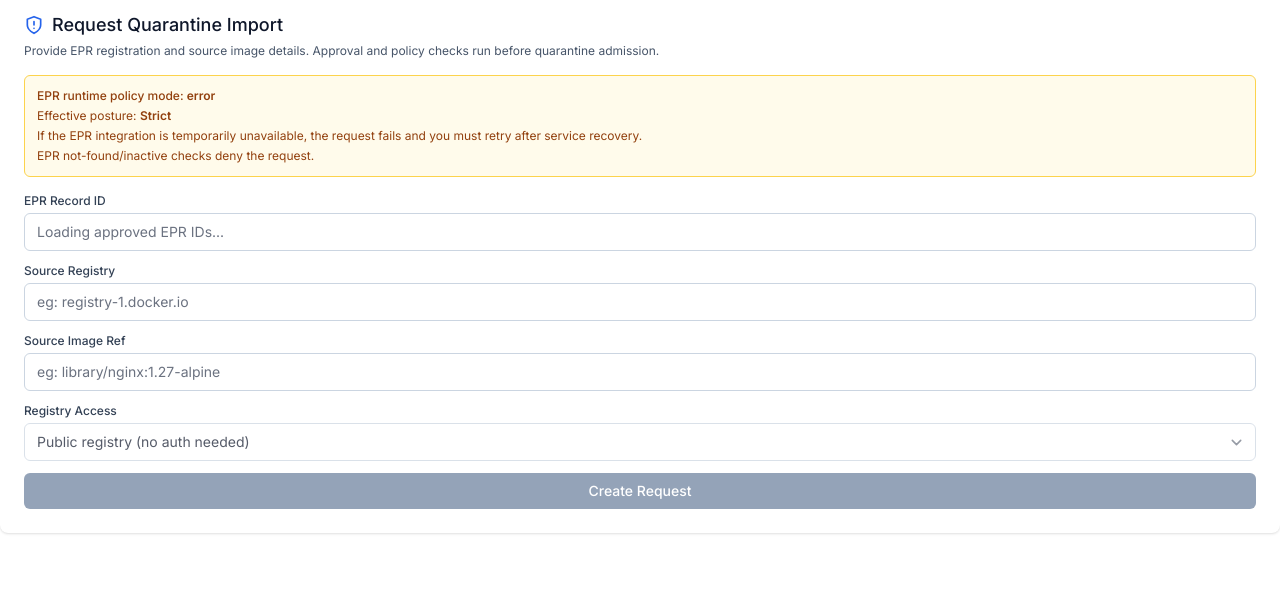
Test: ExternalImportRequestForm › maps tenant_capability_not_entitled to actionable message
In the field labelled "EPR Record ID": (640, 232) [24,213,1256,251], type "EPR-123"
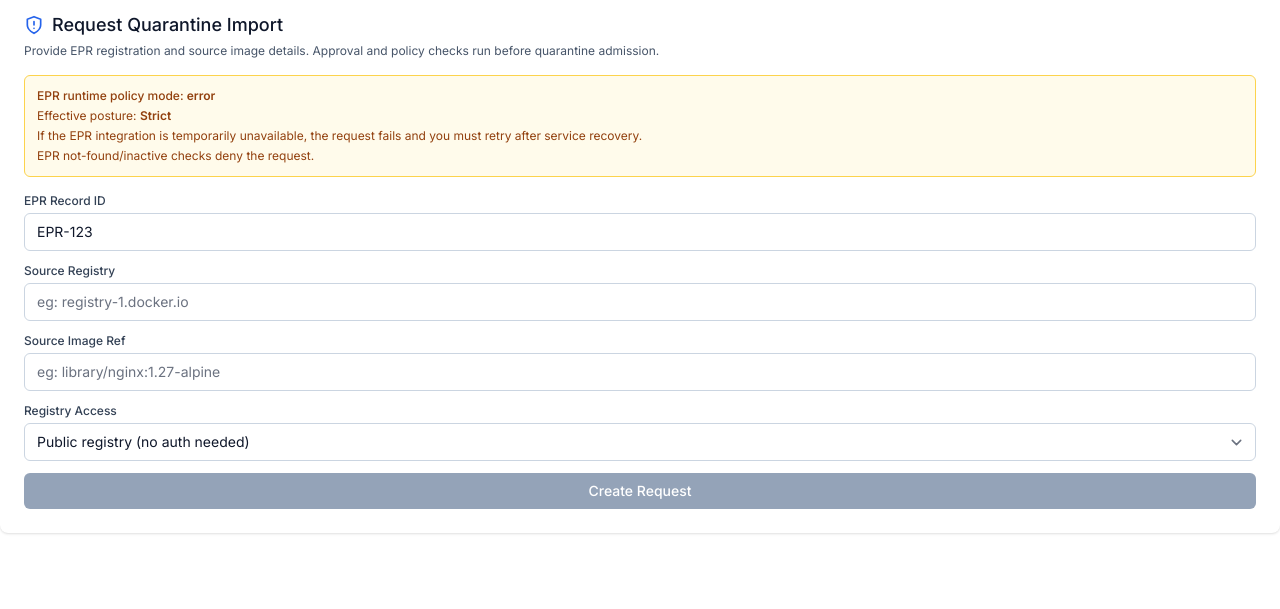
Expected: the field labelled "Source Image Ref" is enabled, [24,353,1256,391]
In the field labelled "Source Registry": (640, 302) [24,283,1256,321], type "registry-1.docker.io"
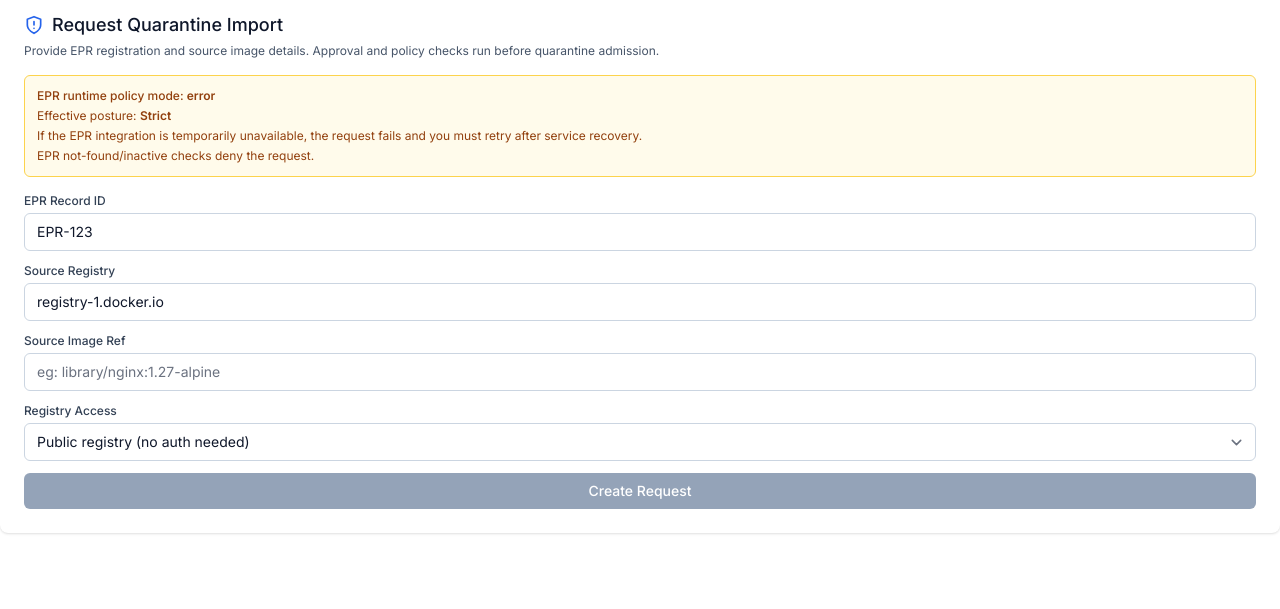
In the field labelled "Source Image Ref": (640, 372) [24,353,1256,391], type "library/nginx:latest"
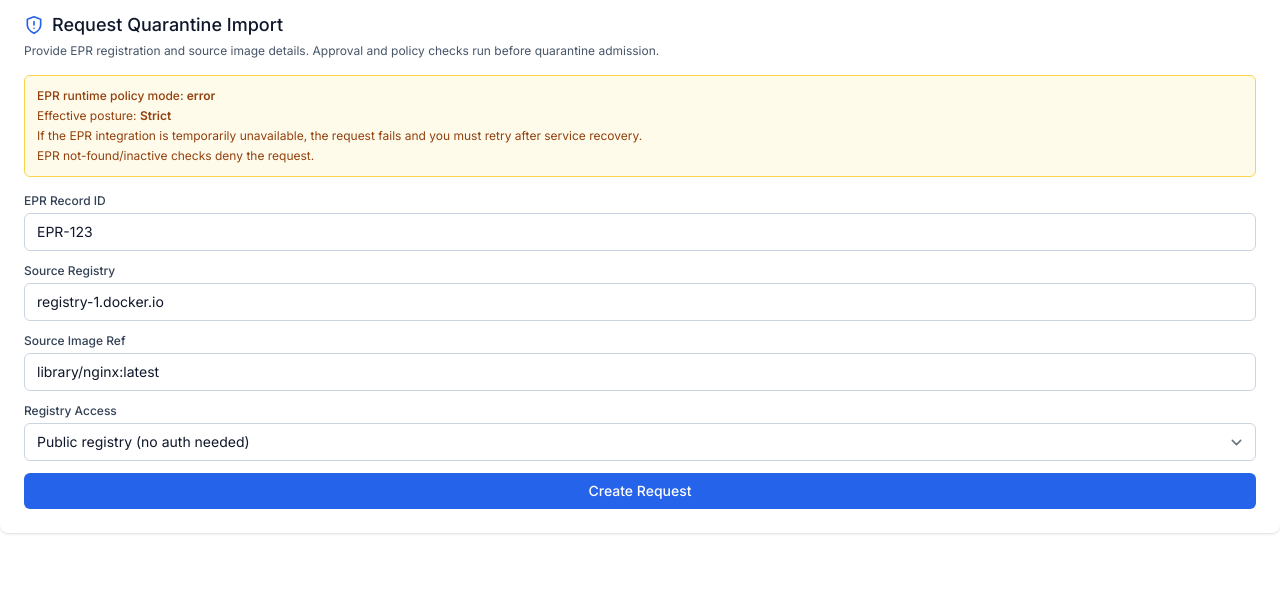
Click the button "Create Request": (640, 491) [24,473,1256,509]
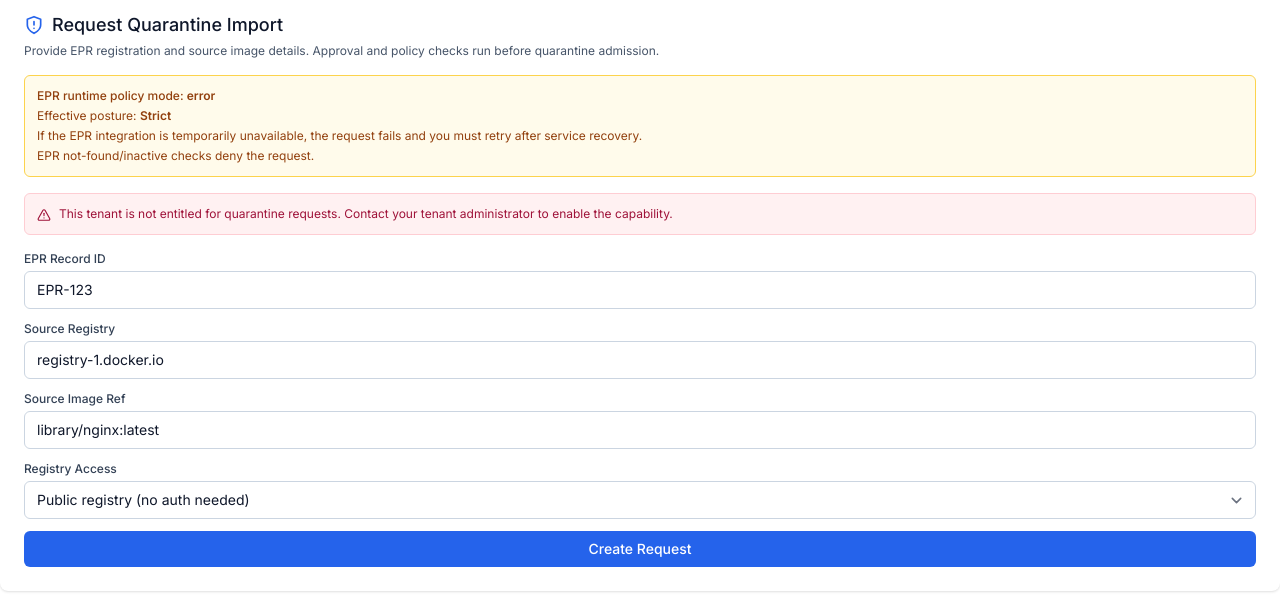
Expected: the text "Contact your tenant administrator to enable the capability" is shown, [59,206,673,221]
